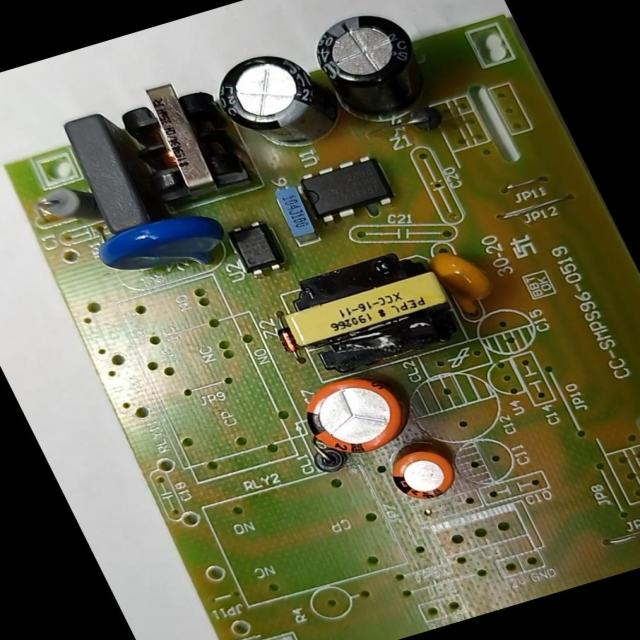Cap1: (284, 364, 422, 472)
Cap2: (378, 438, 465, 512)
Cap3: (202, 41, 347, 167)
Cap4: (295, 0, 447, 135)
MOSFET: (291, 148, 405, 229)
Mov: (81, 200, 236, 294)
Resistor: (29, 178, 106, 236)
Transformer: (266, 240, 471, 383), (103, 72, 253, 214)
